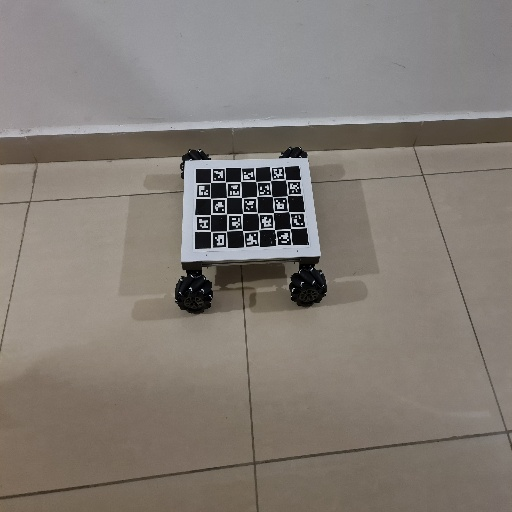Omniwheel: (173, 145, 329, 317)
